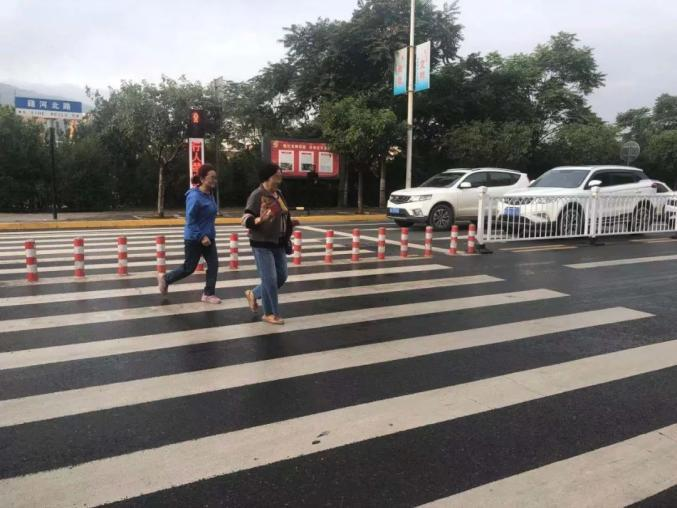car: (496, 164, 676, 236), (386, 168, 530, 230)
person: (157, 162, 223, 306), (241, 165, 296, 325)
sign: (8, 97, 84, 122), (620, 141, 640, 162)
traffic light: (188, 108, 206, 137)
